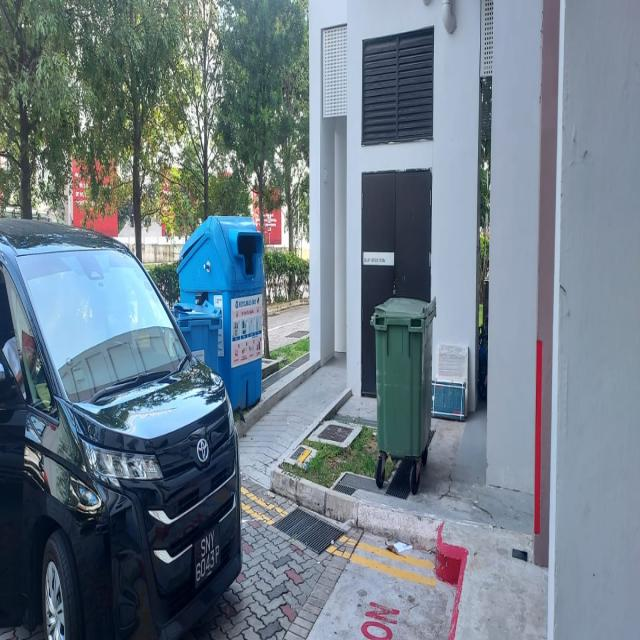bin_empty: (174, 214, 266, 412), (369, 296, 436, 492)
bulk_waste: (431, 342, 468, 422)
vehicle: (0, 219, 241, 639)
